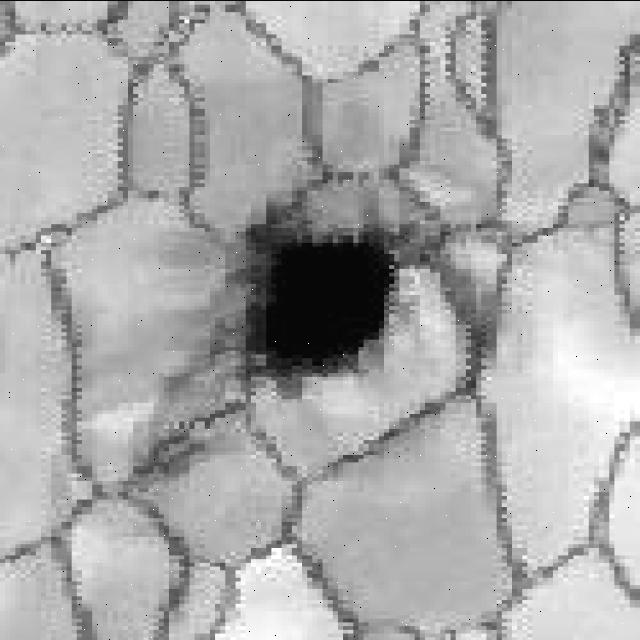good_void: (202, 219, 420, 400)
